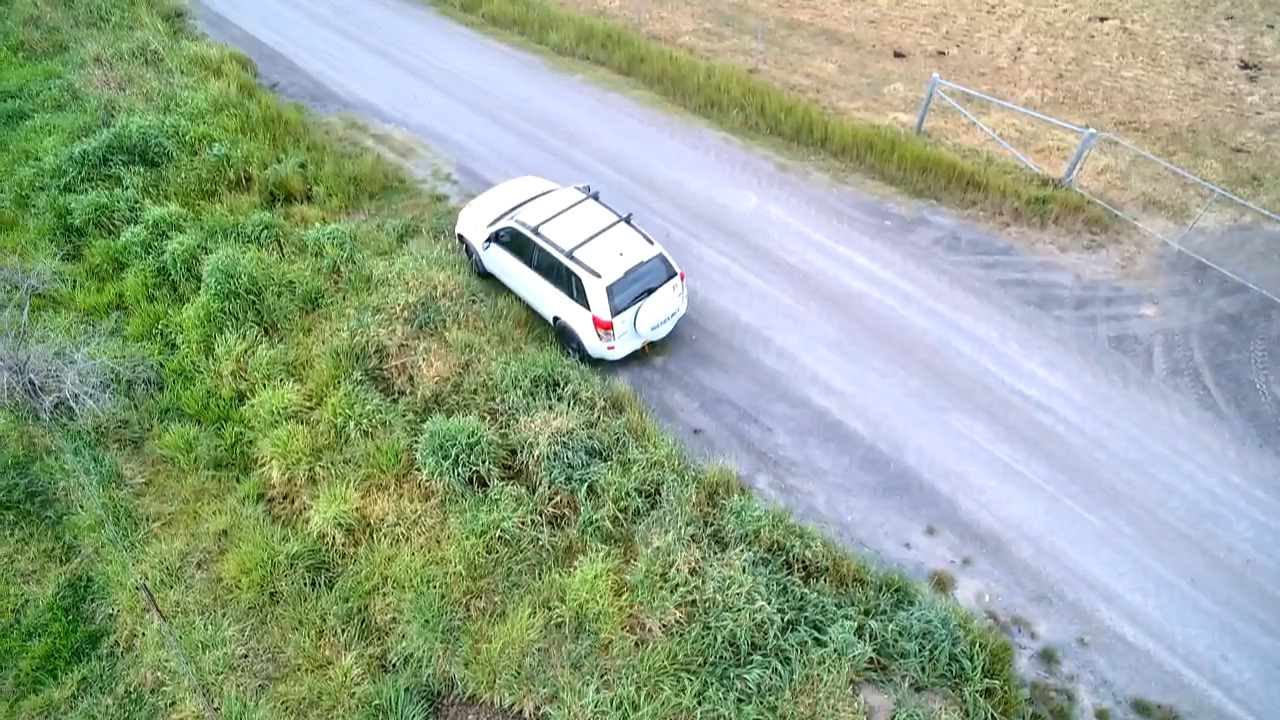Car: (455, 175, 688, 361)
